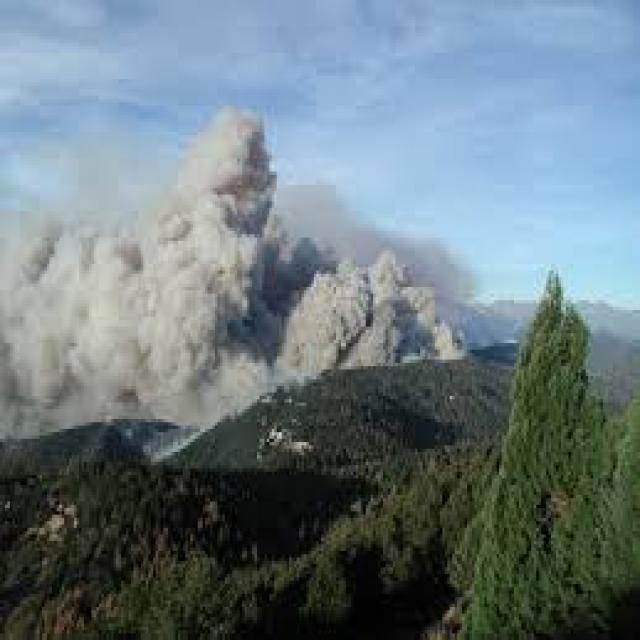Smoke: (3, 206, 256, 412), (265, 248, 454, 370)
